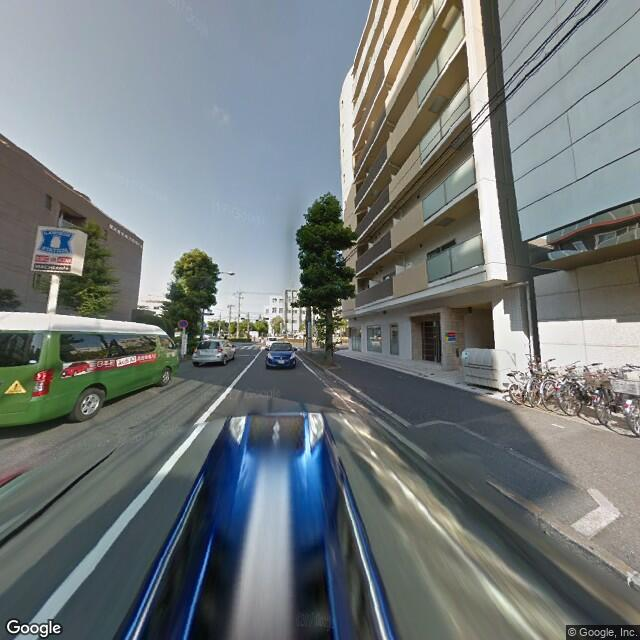lawson: (35, 221, 78, 257)
